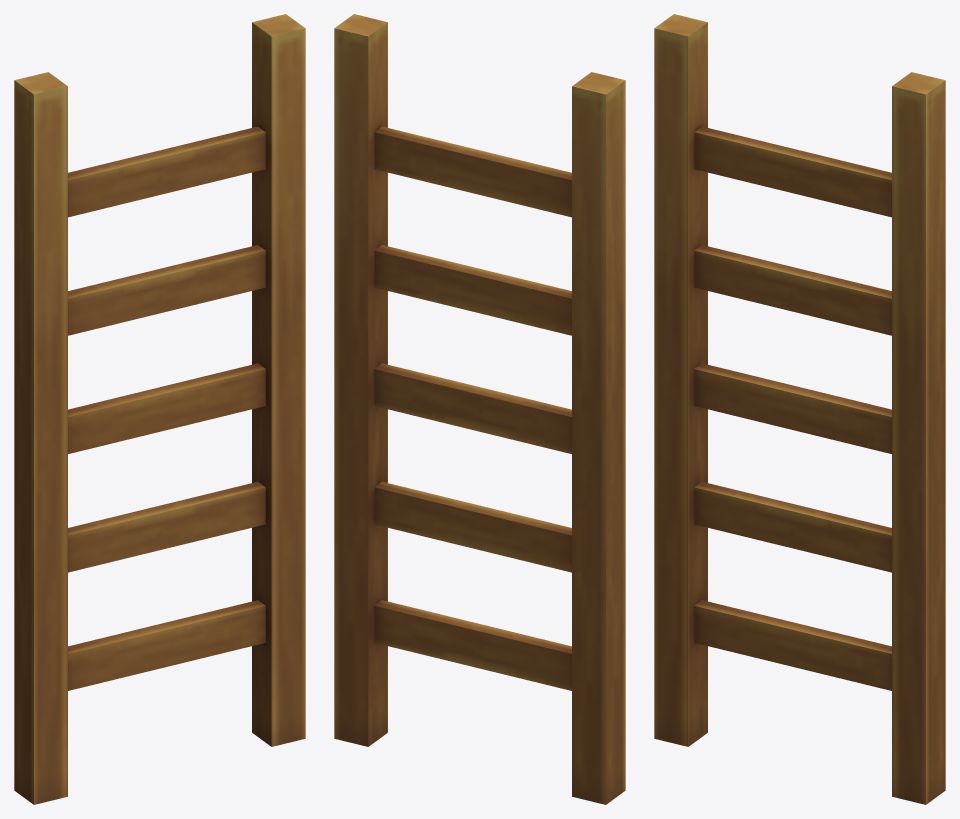
File: ladder.fbx
3 renders of one model, left to right at view 1: azimuth 30°, elevation 25°; view 2: azimuth 150°, elevation 25°; view 3: azimuth 330°, elevation 25°, orthographic.
Parts seen in each view (by area): view 1: ladder; view 2: ladder; view 3: ladder.
Part boxes in pixels (x1,y1,x2,y2): ladder: [14, 14, 305, 804]; ladder: [334, 14, 625, 804]; ladder: [654, 14, 945, 804].
Size of the model in its own units: 0.8 by 2 by 0.1.
